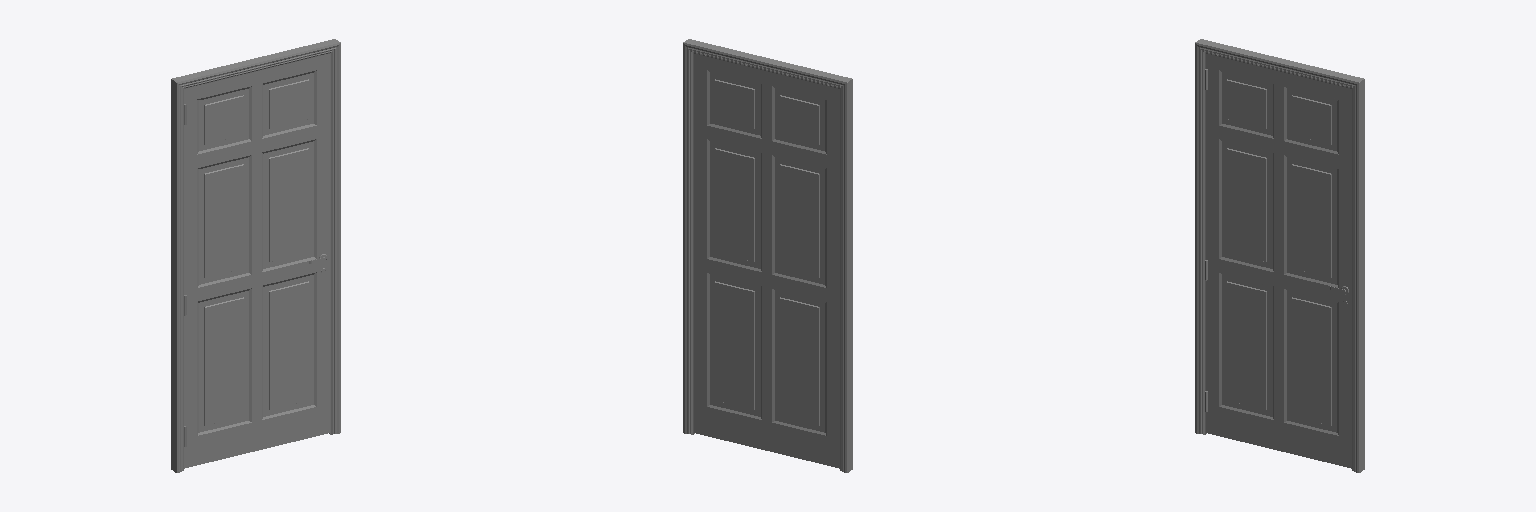
Rendered from door.obj.
The picture shows the model from 3 angles: view 1: azimuth 30°, elevation 25°; view 2: azimuth 150°, elevation 25°; view 3: azimuth 330°, elevation 25°; orthographic projection.
Visible parts, largest first — view 1: 10057_wooden_door_v3_iterations-2; view 2: 10057_wooden_door_v3_iterations-2; view 3: 10057_wooden_door_v3_iterations-2.
Boxes of the visible parts, box(x1,y1,x2,y2) form: 10057_wooden_door_v3_iterations-2: box(171, 39, 340, 472); 10057_wooden_door_v3_iterations-2: box(683, 39, 852, 472); 10057_wooden_door_v3_iterations-2: box(1195, 39, 1364, 472).
Size of the model in its own units: 36.38 by 82.78 by 2.21.